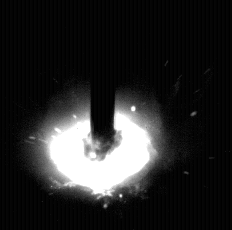arame: (91, 0, 116, 161)
poca: (37, 0, 168, 230)
